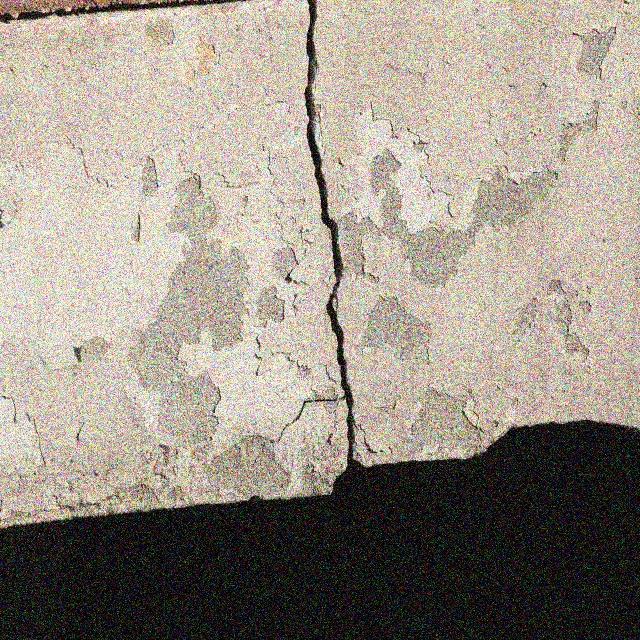SurfaceCrack: (246, 1, 442, 486)
